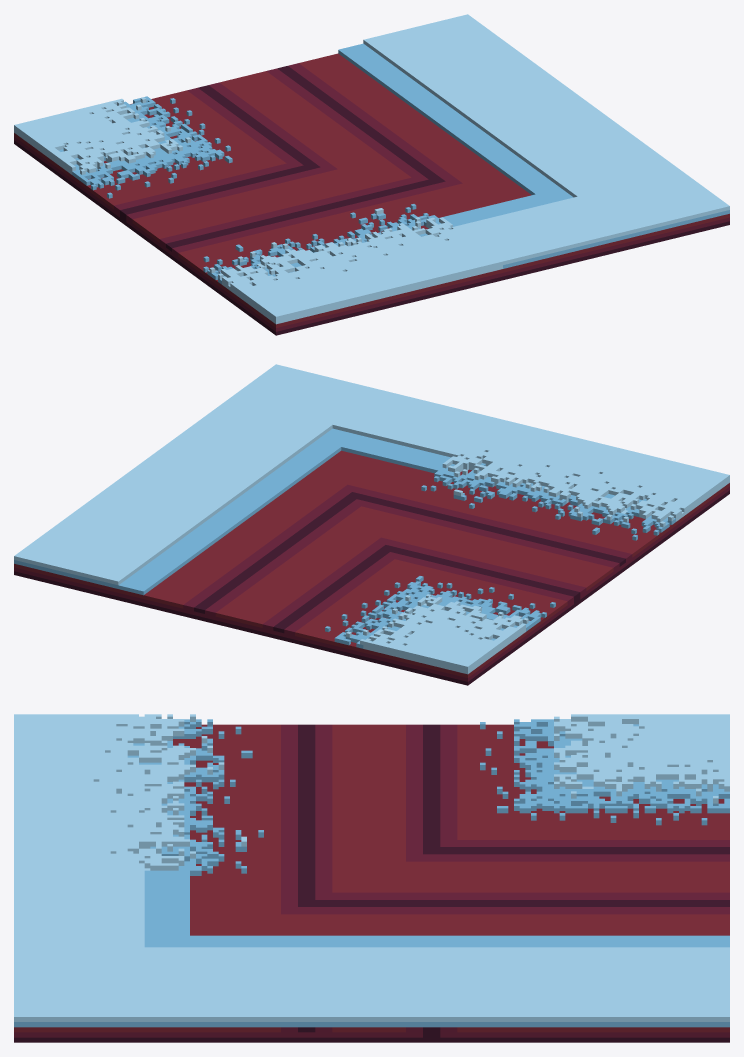
Rendered from Snow_Environment_Turn_Tile.obj.
3 renders of one model, top to bottom at view 1: azimuth 30°, elevation 25°; view 2: azimuth 150°, elevation 25°; view 3: azimuth 270°, elevation 25°, orthographic. The views are drawn at different scales.
Parts seen in each view (by area): view 1: Snow_Environment_Turn_Tile; view 2: Snow_Environment_Turn_Tile; view 3: Snow_Environment_Turn_Tile.
Part boxes in pixels (<box>): Snow_Environment_Turn_Tile: <box>14,14,729,335</box>; Snow_Environment_Turn_Tile: <box>14,364,729,685</box>; Snow_Environment_Turn_Tile: <box>14,714,729,1042</box>.
Bounding box in the file's own units: 126 × 5 × 126.
1 material, 1 textured.
